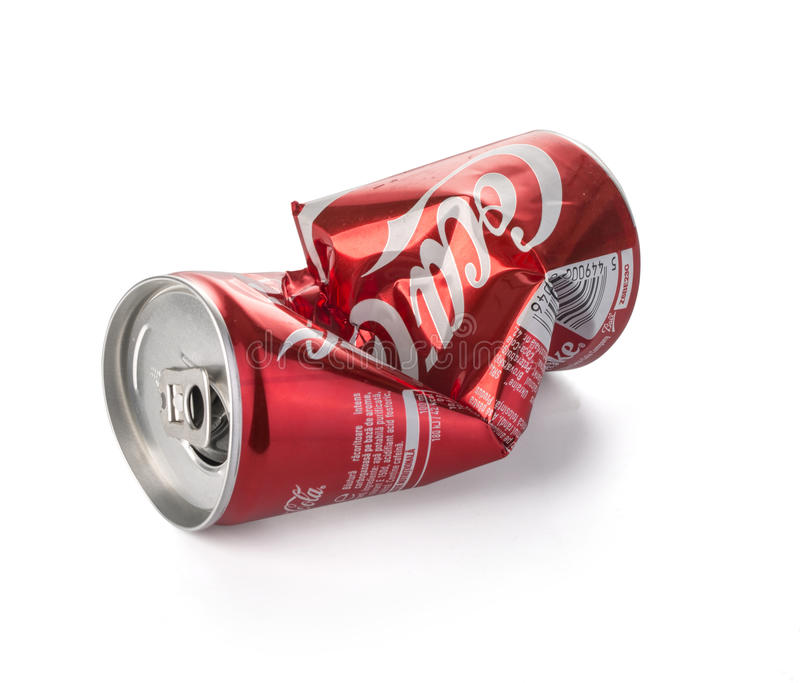can: (97, 126, 641, 536)
